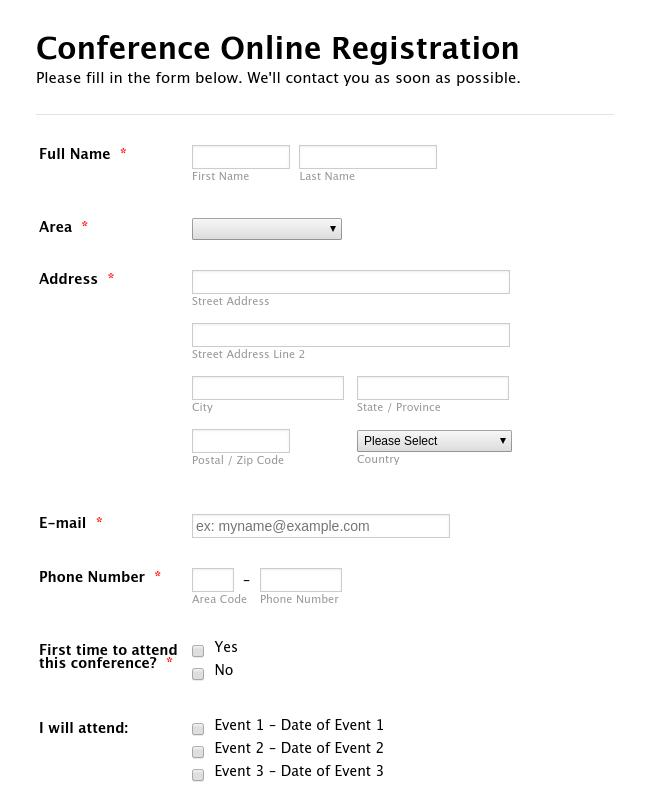checkbox: (35, 635, 246, 687), (179, 715, 391, 742), (175, 740, 398, 761), (172, 763, 394, 783), (183, 635, 242, 665), (183, 662, 235, 684)
dropdown: (177, 212, 354, 261), (351, 429, 528, 477)
textbox: (177, 508, 458, 556), (181, 567, 348, 607), (185, 134, 296, 185)
